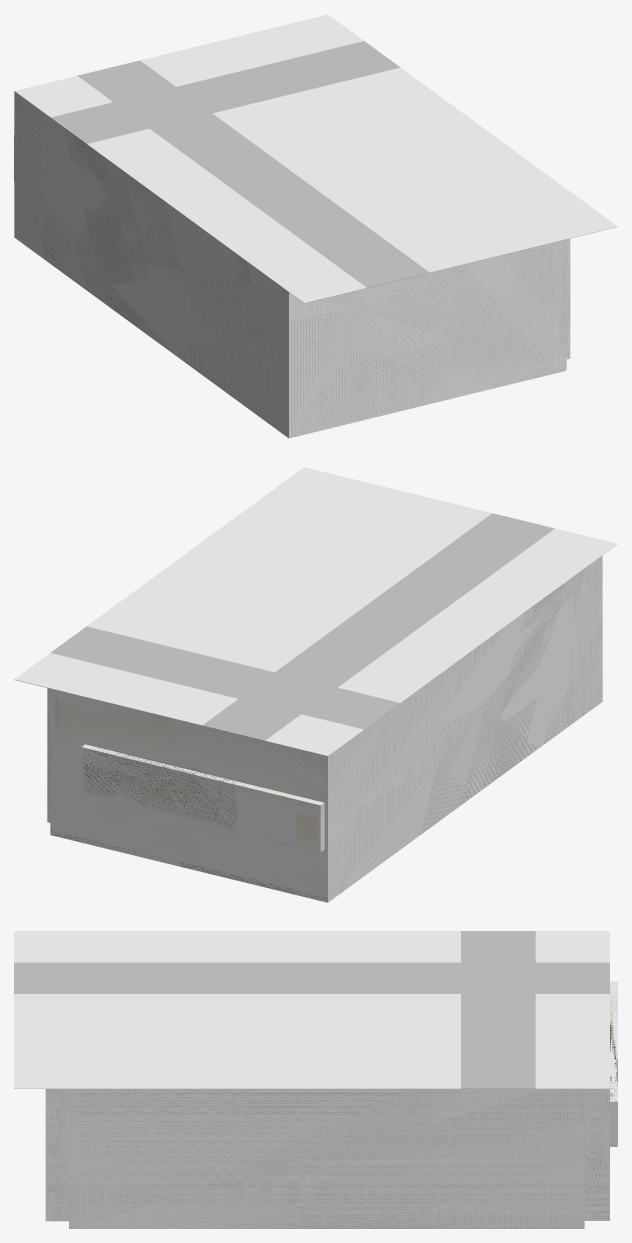
The model's file is lab_component7.dae.
3 views of the same model, one above another, from view 1: azimuth 30°, elevation 25°; view 2: azimuth 150°, elevation 25°; view 3: azimuth 270°, elevation 25° (orthographic). The views are drawn at different scales.
Parts seen in each view (by area): view 1: Ceiling_Tile_1 (×160), Lab (×2); view 2: Ceiling_Tile_1 (×160), Lab (×3); view 3: Ceiling_Tile_1 (×160), Lab (×4).
Boxes of the visible parts, bbox=[...] form: Ceiling_Tile_1 (×160): bbox=[14, 14, 617, 303]; Lab (×2): bbox=[14, 91, 570, 438]; Ceiling_Tile_1 (×160): bbox=[14, 467, 617, 756]; Lab (×3): bbox=[47, 555, 602, 902]; Ceiling_Tile_1 (×160): bbox=[14, 931, 609, 1088]; Lab (×4): bbox=[45, 981, 617, 1228].
Bounding box in the file's own units: 238 × 385 × 106.
